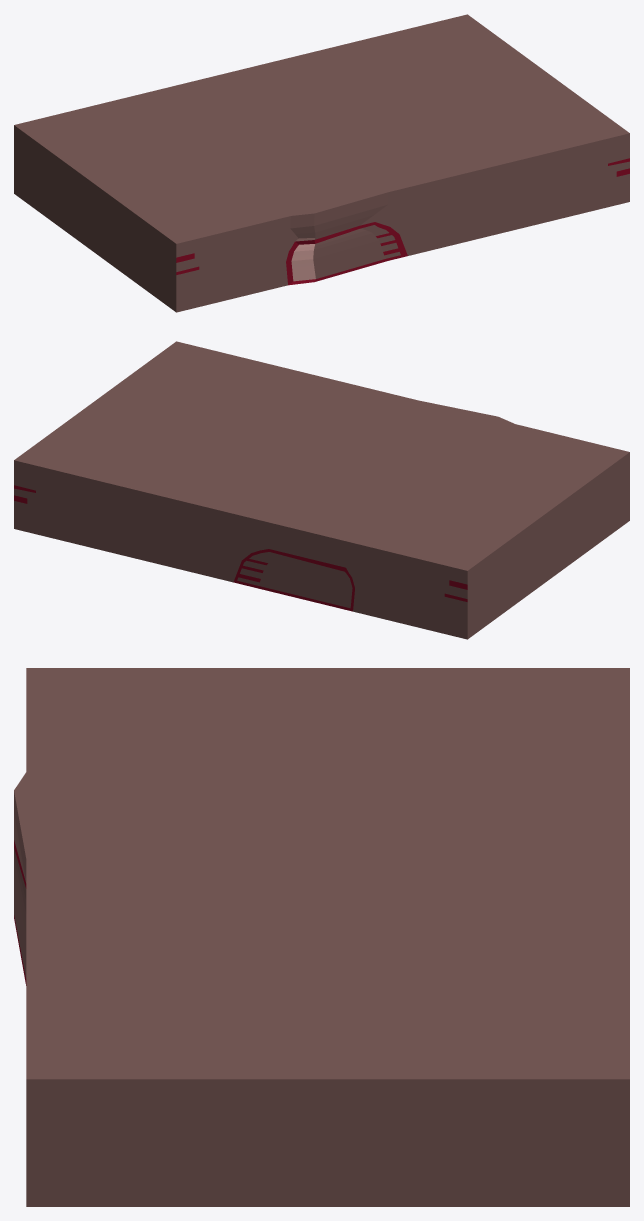
File: cetvelliust.fbx
The picture shows the model from 3 angles, top to bottom: view 1: azimuth 30°, elevation 25°; view 2: azimuth 150°, elevation 25°; view 3: azimuth 270°, elevation 25°; orthographic projection. The views are drawn at different scales.
Visible parts, largest first — view 1: Plane.007; view 2: Plane.007; view 3: Plane.007.
Boxes of the visible parts, box(x1,y1,x2,y2) form: Plane.007: box(14, 14, 629, 312); Plane.007: box(14, 341, 629, 639); Plane.007: box(14, 668, 629, 1206).
Size of the model in its own units: 342 by 49.54 by 217.
